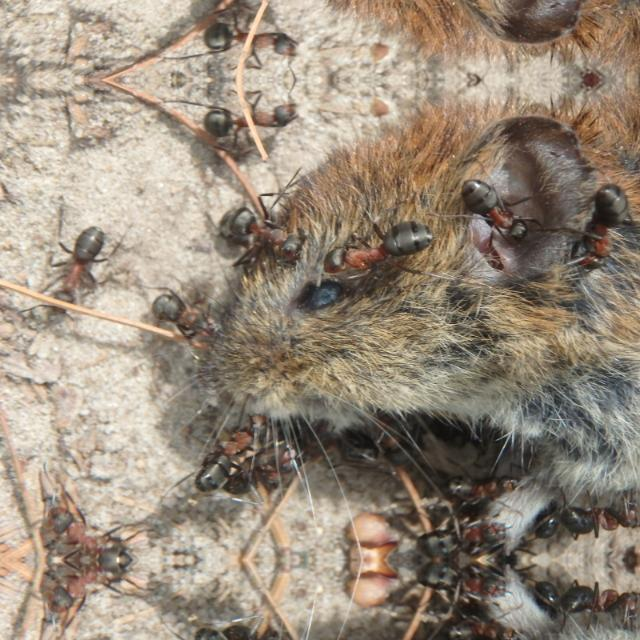Formica: (132, 262, 255, 376), (294, 206, 446, 298), (24, 193, 126, 329), (212, 185, 326, 283), (464, 164, 572, 262), (182, 398, 276, 502), (175, 11, 313, 80), (175, 80, 313, 148), (538, 478, 640, 552), (538, 568, 638, 640), (569, 160, 625, 282), (414, 507, 524, 559), (414, 561, 524, 613), (454, 456, 534, 500), (257, 446, 315, 502), (182, 618, 274, 640), (454, 620, 534, 640), (257, 616, 315, 640)
